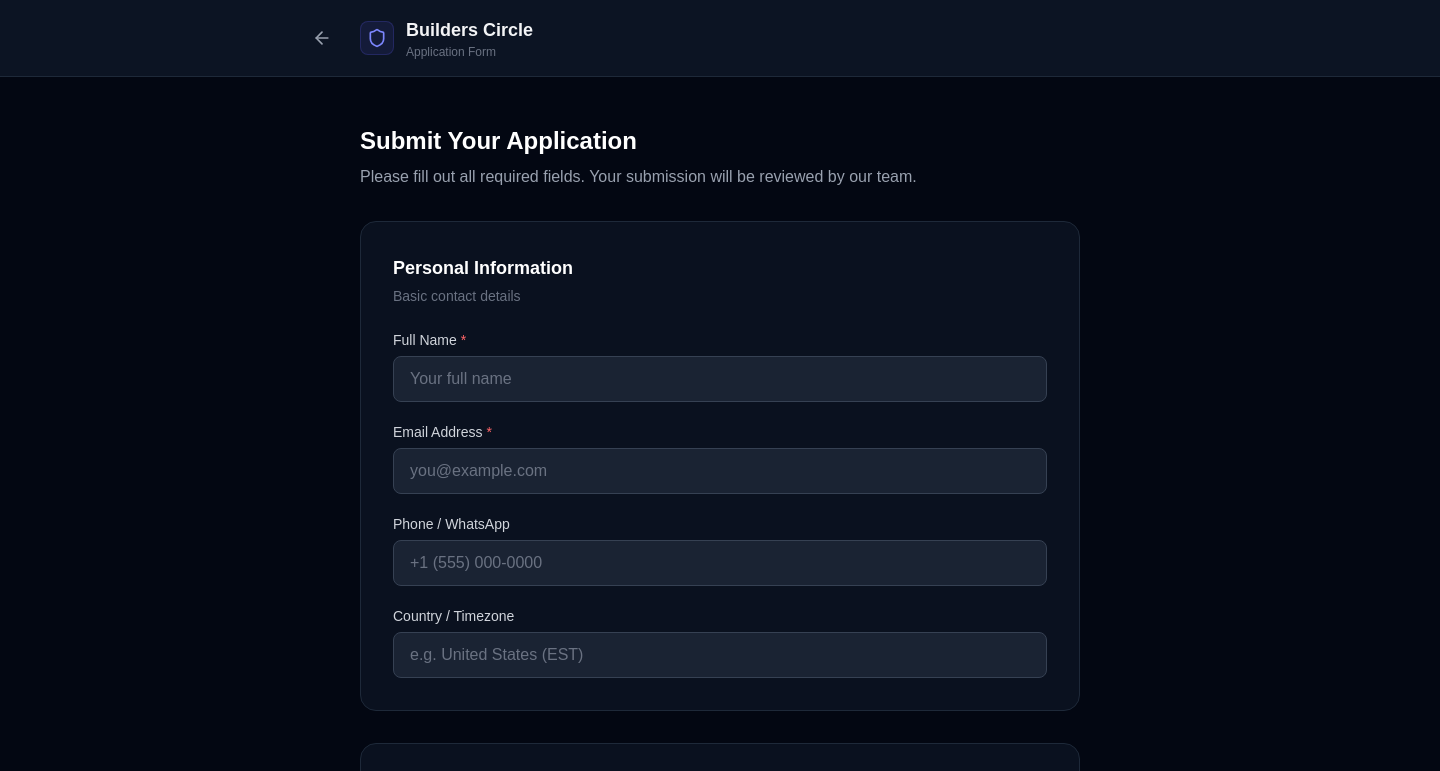
Test: TriageApply Successful Submission [Group 5] › shows reference ID in success state
In the field with placeholder "Your full name": {"x": 720, "y": 379} [393,356,1047,402], type "Bob Jones"
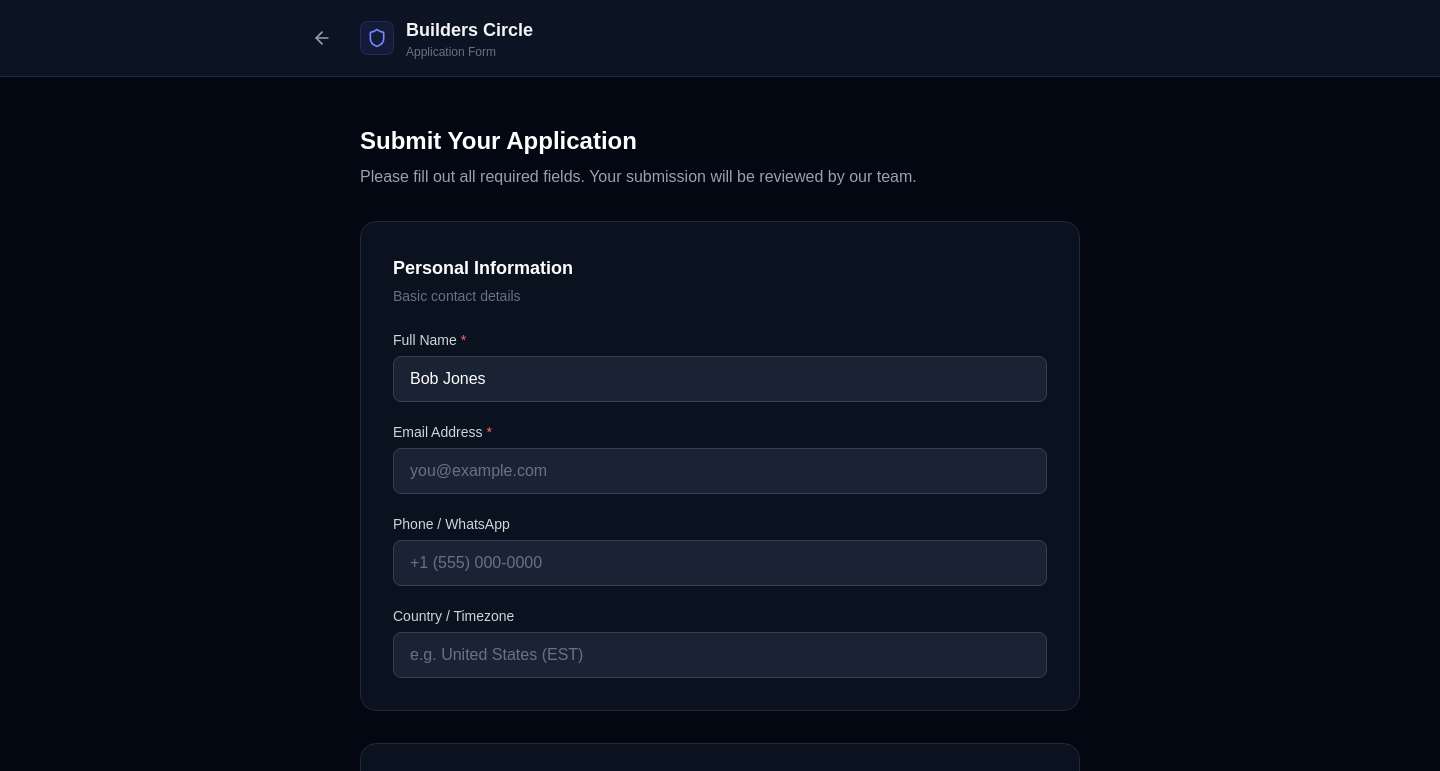
In the field with placeholder "you@example.com": {"x": 720, "y": 471} [393,448,1047,494], type "bob@example.com"
(page scrolled)
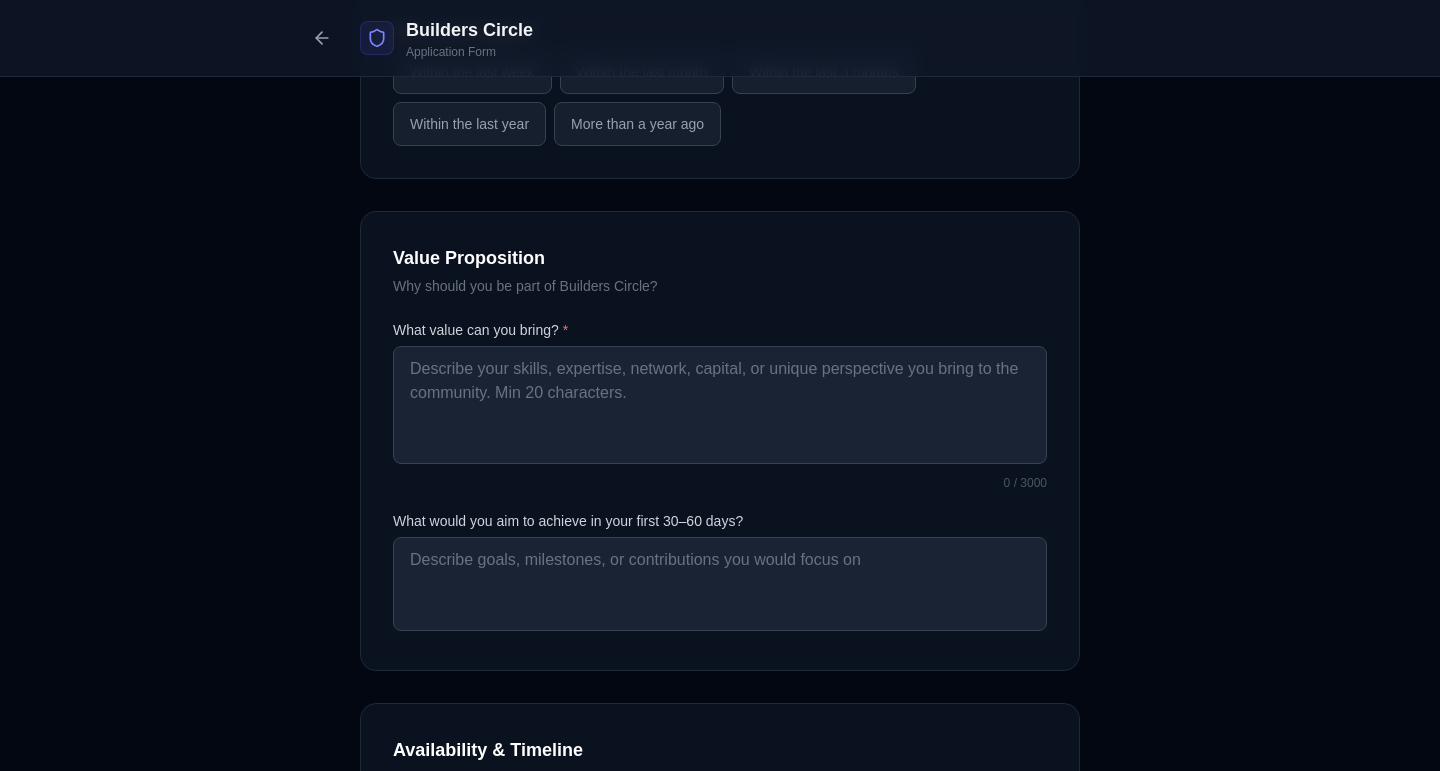
Replace the text in the text box with placeholder "Describe your skills" with "Expert in AI/ML with focus on natural language processing and conversational agents.": {"x": 720, "y": 405} [393,346,1047,464]
(page scrolled)
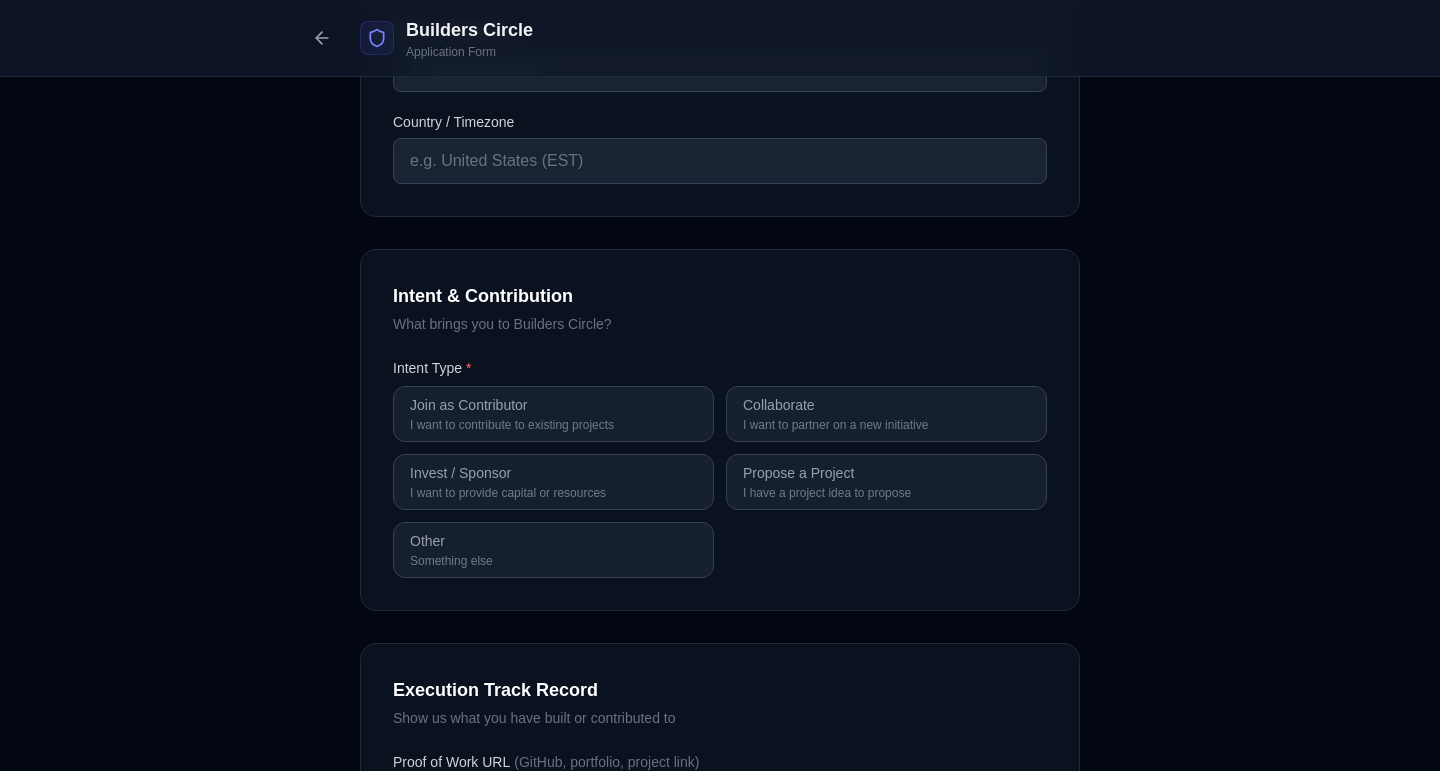
Click the text "Join as Contributor": {"x": 469, "y": 405} [410,397,528,413]
(page scrolled)
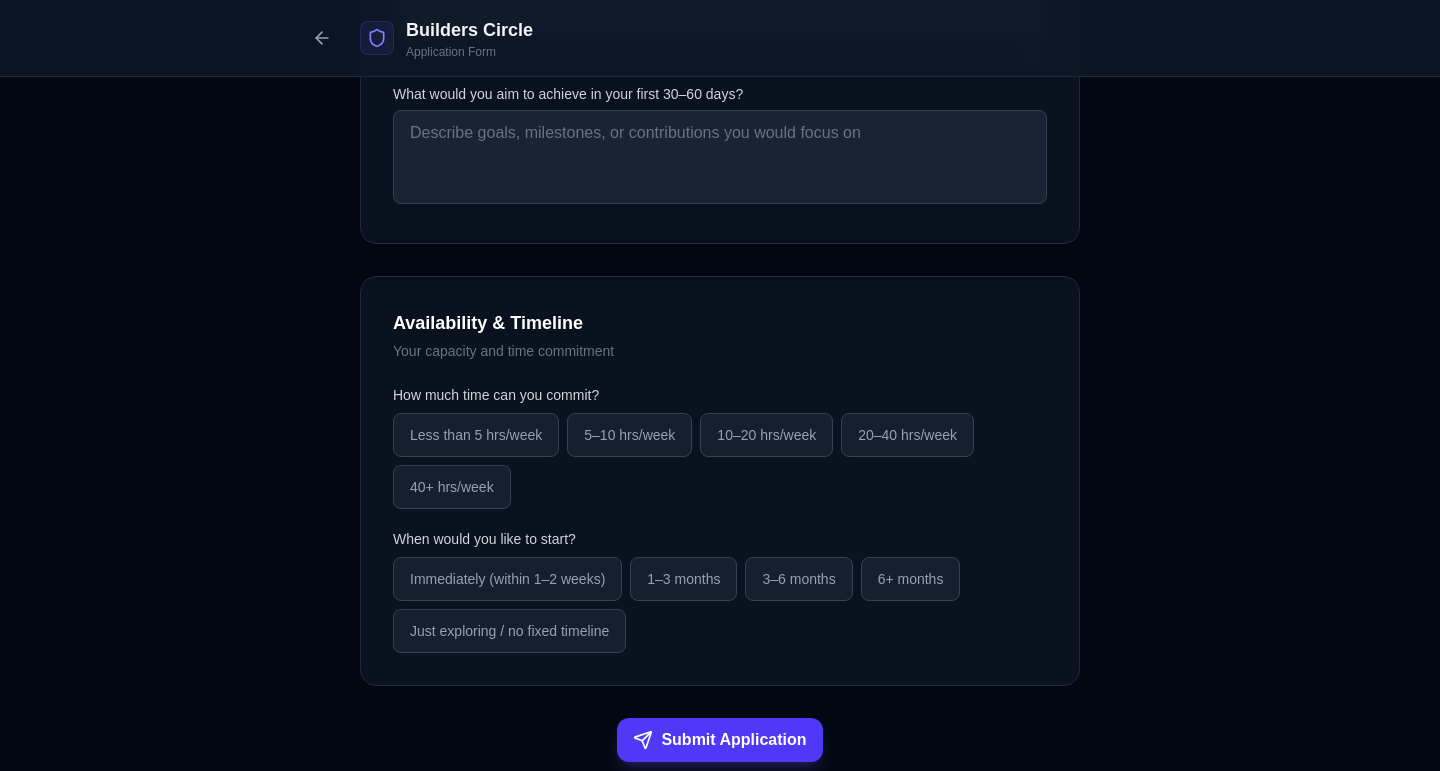
Click the button "Submit Application": {"x": 720, "y": 740} [617,718,823,762]
(page scrolled)
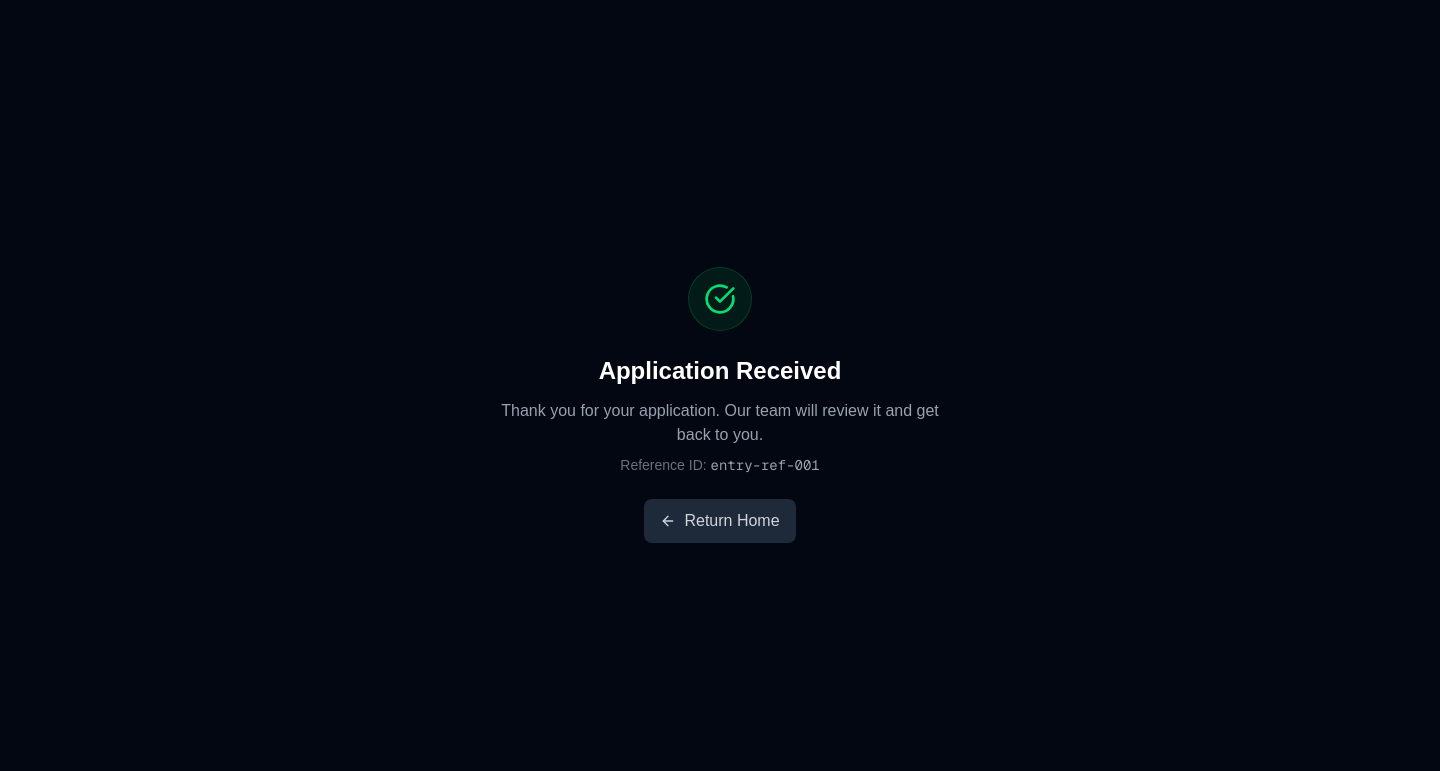
Check: the text "entry-ref-001" is shown, box [710,456,820,474]
